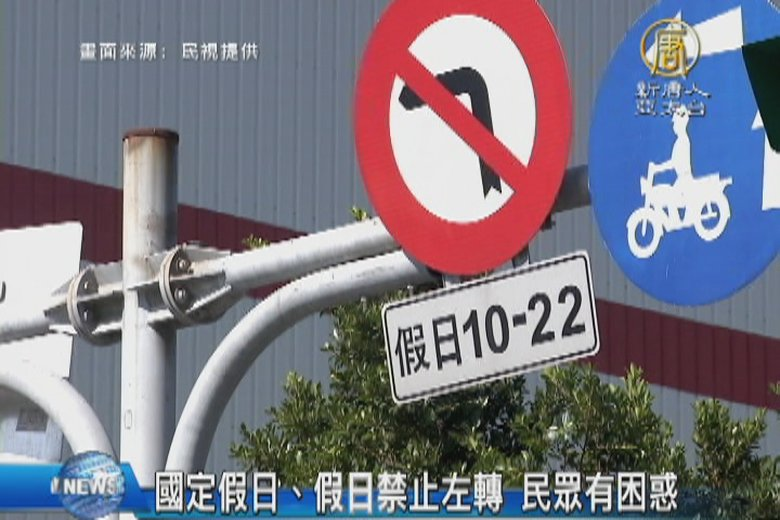No_left_turn: (350, 2, 575, 279)
